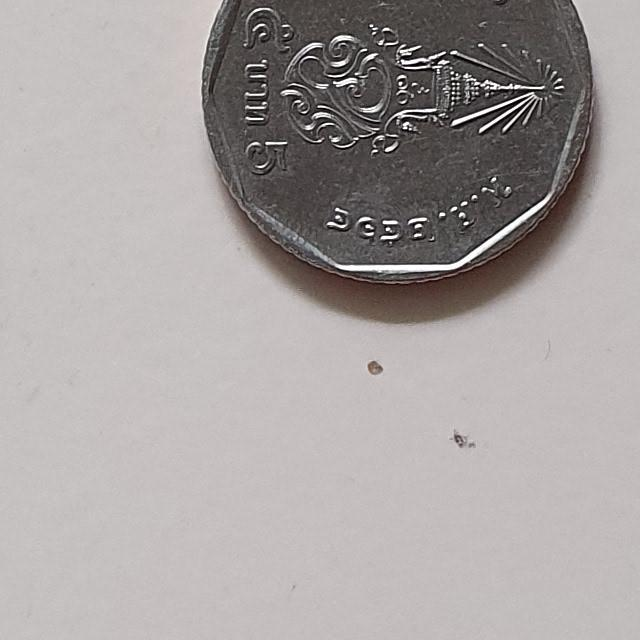5 Bath: (194, 1, 603, 296)
